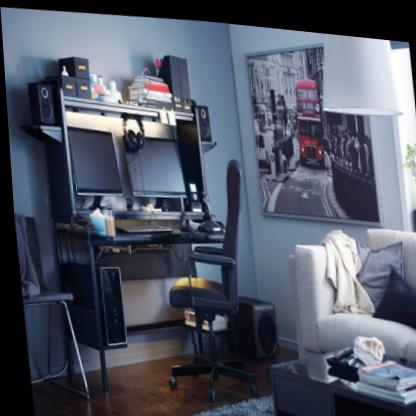Sofa: (280, 207, 416, 380)
Table: (262, 329, 416, 416)
